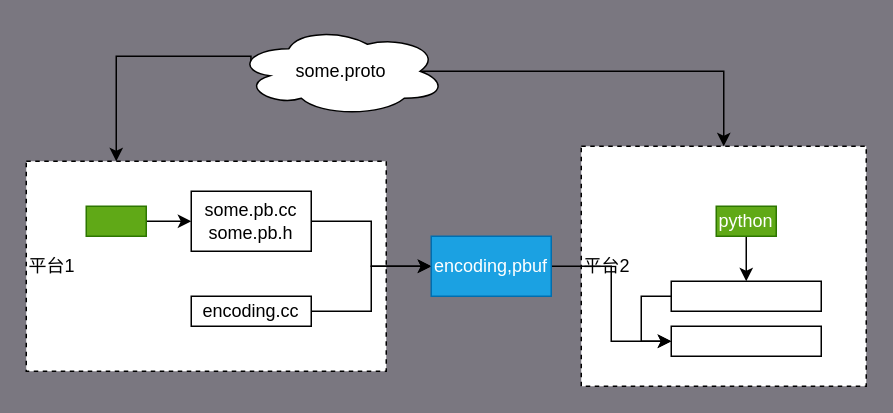
This 893x413 diagram has some shape labels left out. The shapes that lost their labels are listed below. From the top down, each one's centre as x and y in pixels, then its label:
(115,220): c++
(745,295): some.pb.python
(745,340): decoding.python
